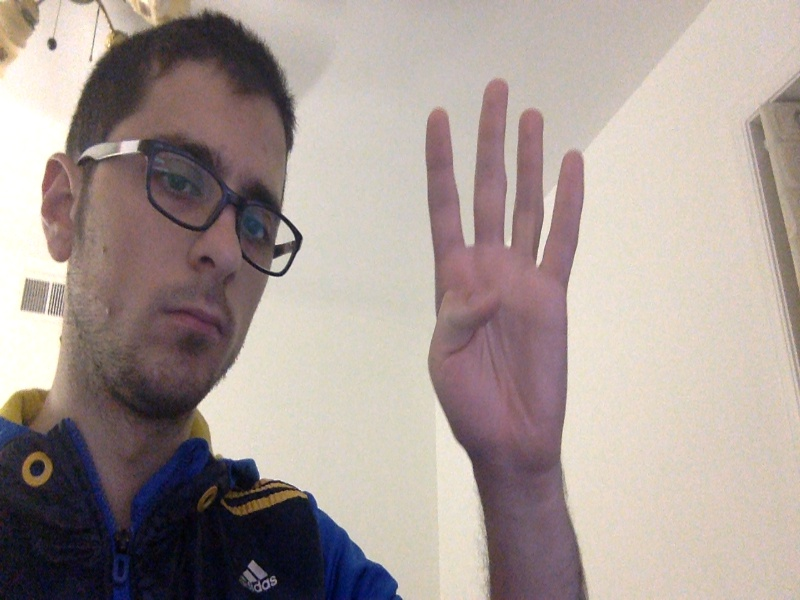4-hand: (423, 80, 586, 459)
